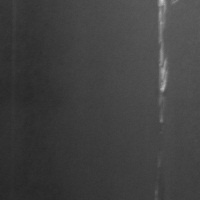scratches: (154, 0, 172, 124)
